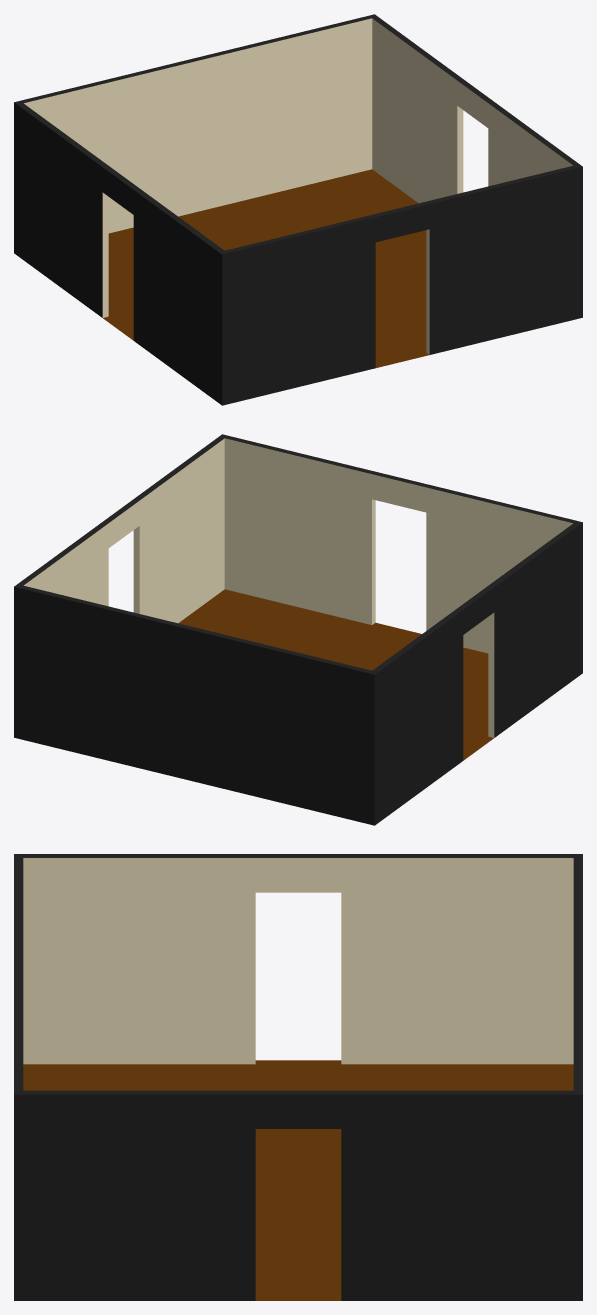
3 views of the same model, one above another, from view 1: azimuth 30°, elevation 25°; view 2: azimuth 150°, elevation 25°; view 3: azimuth 270°, elevation 25° (orthographic). The views are drawn at different scales.
Visible parts, largest first — view 1: PE_1x1_3D; view 2: PE_1x1_3D; view 3: PE_1x1_3D.
Part boxes in pixels (x1=…): PE_1x1_3D: x1=14, y1=14, x2=582, y2=405; PE_1x1_3D: x1=14, y1=434, x2=582, y2=825; PE_1x1_3D: x1=14, y1=854, x2=582, y2=1300.
Size of the model in its own units: 24 by 9.6 by 24.
